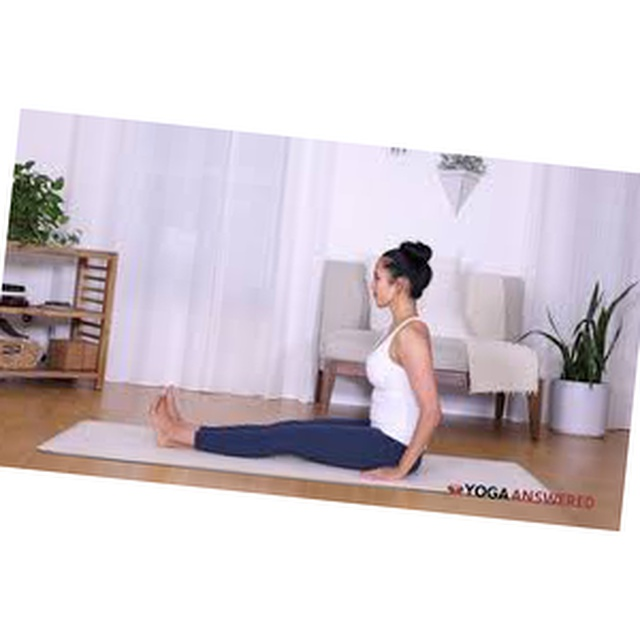Staff_Pose: (152, 238, 443, 485)
